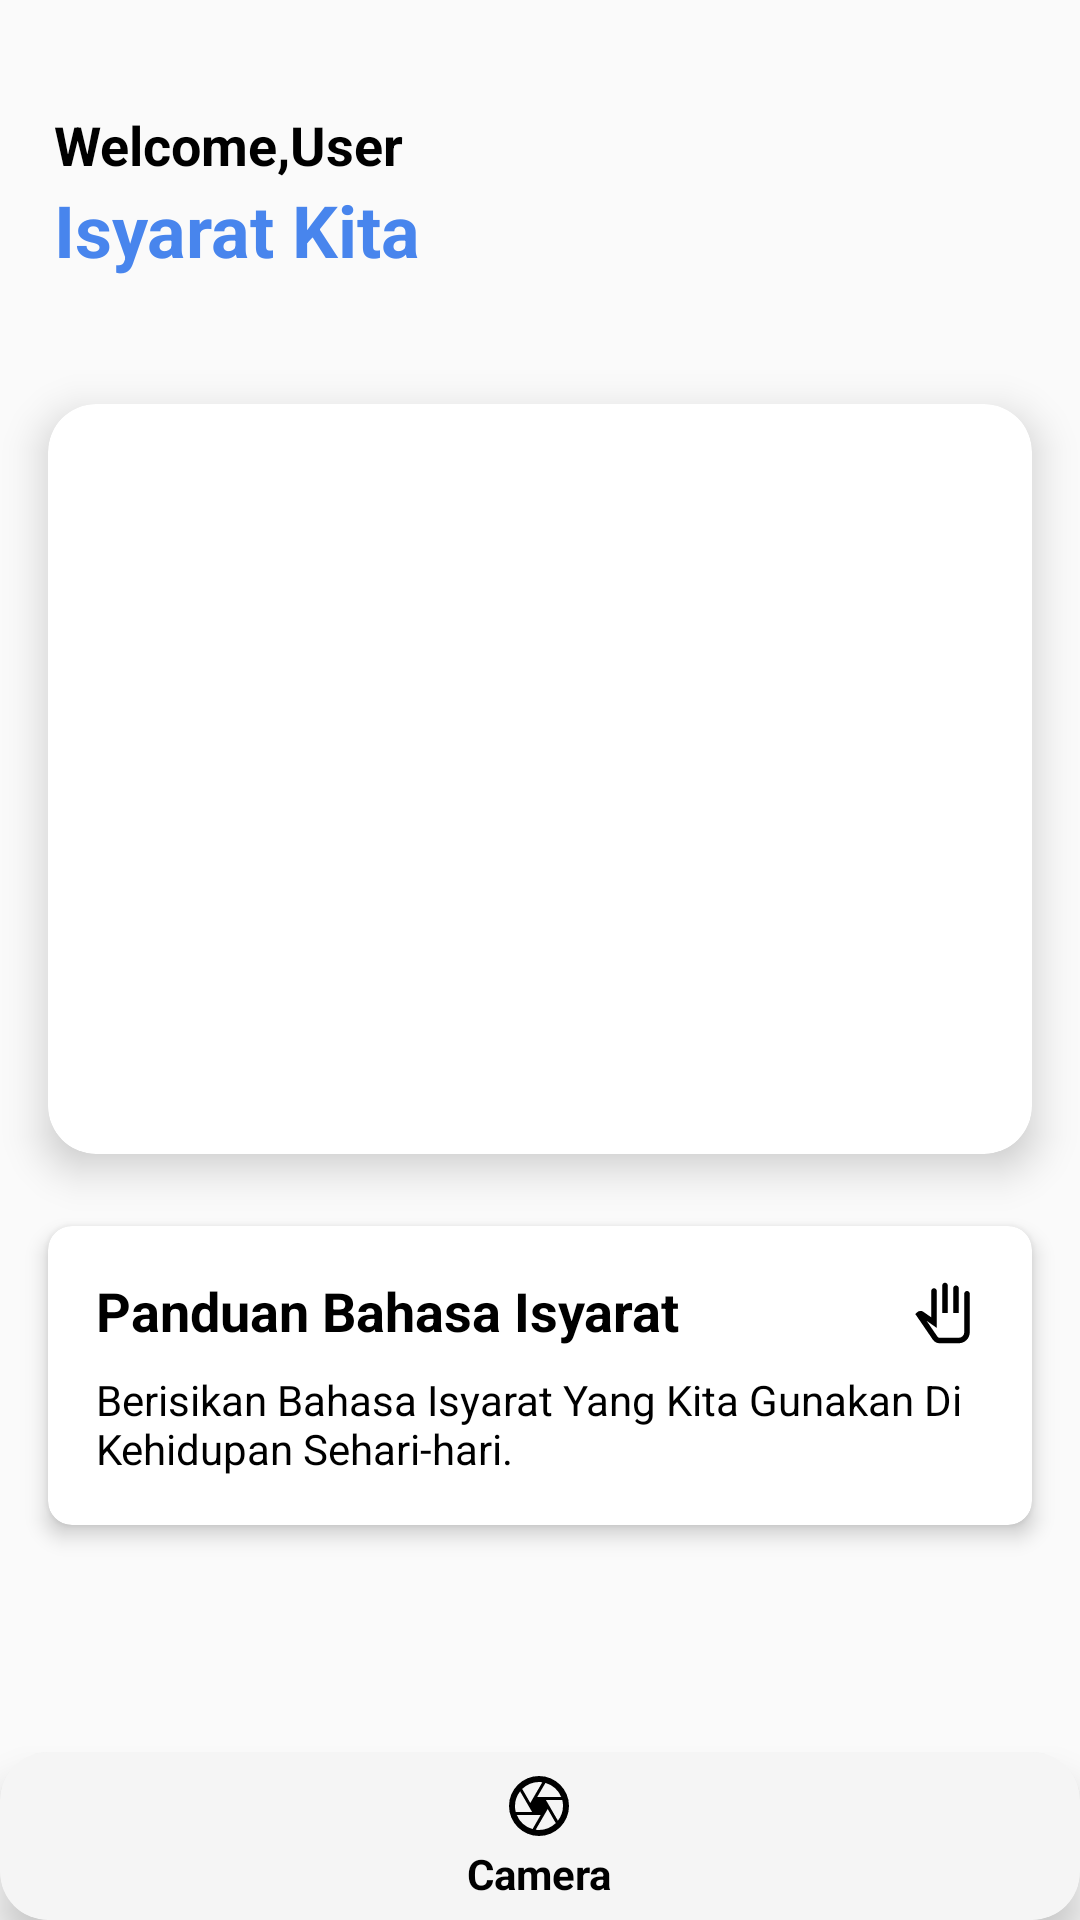

Named icons in this screenshot (1080 x 1920) and their bounding boxes, (x1, y1, x2, y2):
hands: (915, 1282, 970, 1344)
